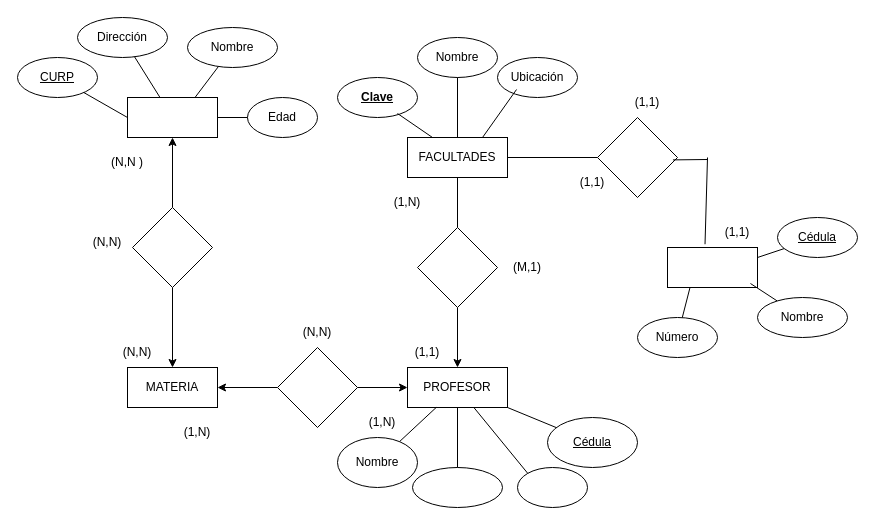
Some shapes in this 875 by 525 pixel diagram are drawn without their labels. The shapes that lost their labels are listed below. From the top down, each one's centre as x and y in pixels, then its label:
At pixel 172 117: "ALUMNOS".
At pixel 637 157: "Representadas".
At pixel 172 247: "Inscriben".
At pixel 457 267: "Cuenta".
At pixel 712 267: "DIRECTOR".
At pixel 317 387: "Imparte".
At pixel 457 487: "Grado".
At pixel 552 487: "Email".
